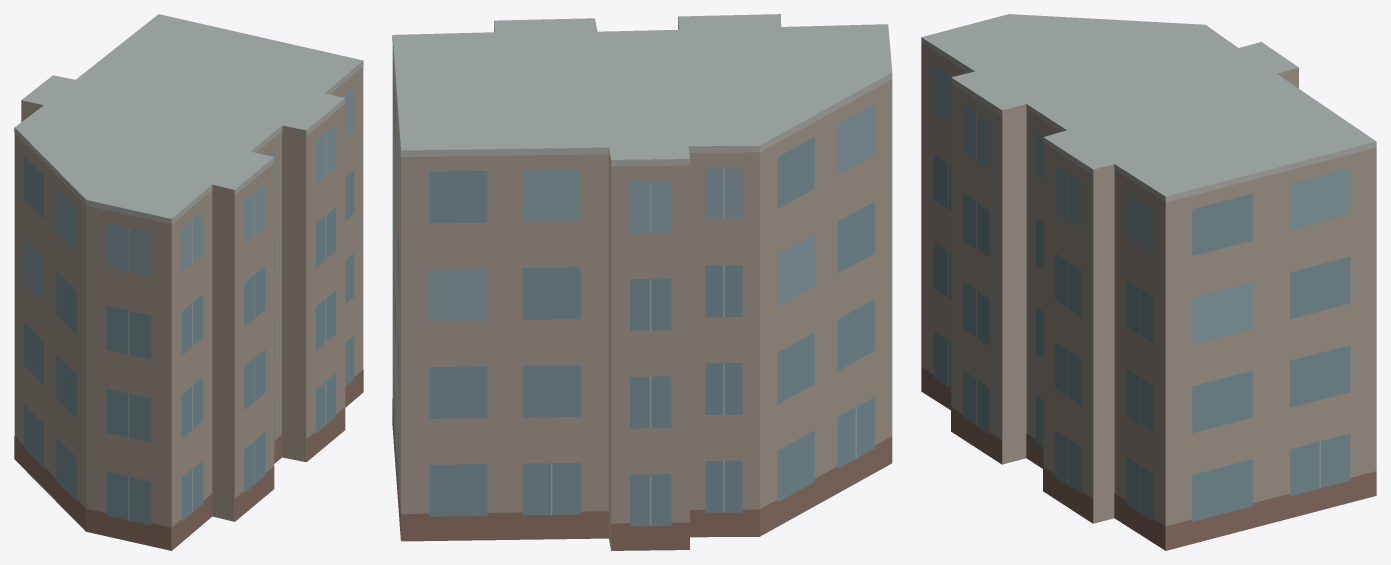
File: survey-upis-33013390.glb
3 renders of one model, left to right at view 1: azimuth 30°, elevation 25°; view 2: azimuth 150°, elevation 25°; view 3: azimuth 270°, elevation 25°, orthographic. The views are drawn at different scales.
Parts seen in each view (by area): view 1: survey-upis-33013390.tmp; view 2: survey-upis-33013390.tmp; view 3: survey-upis-33013390.tmp.
Boxes of the visible parts, bbox=[...] form: survey-upis-33013390.tmp: bbox=[14, 14, 363, 550]; survey-upis-33013390.tmp: bbox=[392, 14, 892, 550]; survey-upis-33013390.tmp: bbox=[921, 14, 1376, 550].
Bounding box in the file's own units: 16.04 × 14.5 × 16.9.
